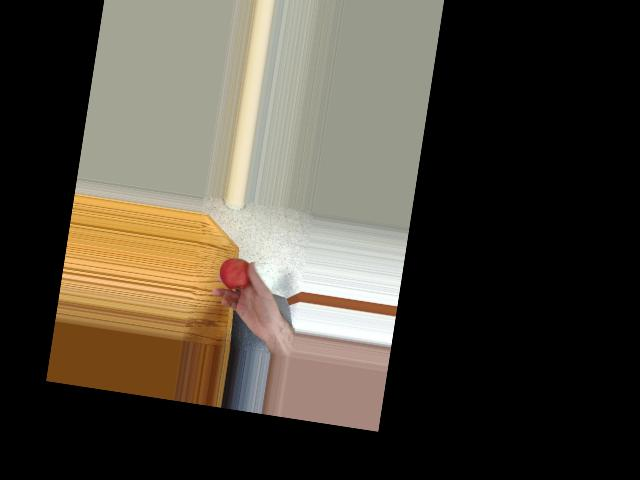apple: (216, 255, 257, 297)
